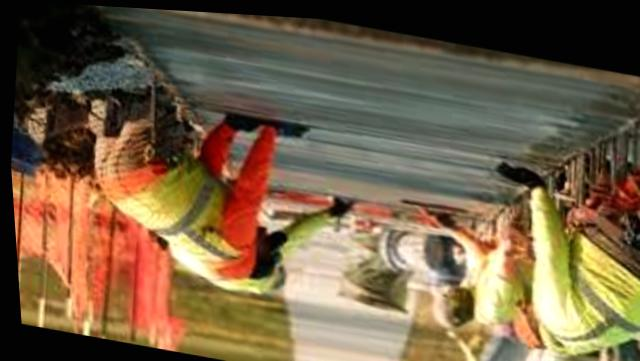vest: (77, 139, 256, 270), (530, 216, 640, 354)
